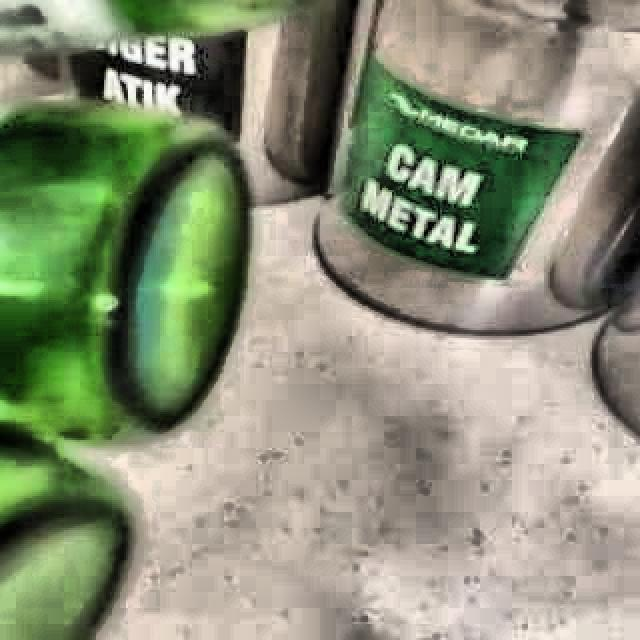glass: (0, 101, 248, 640)
